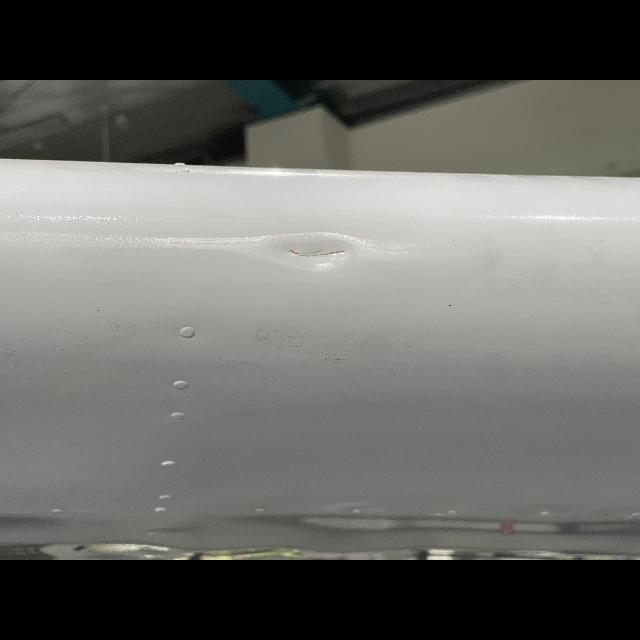dent: (249, 230, 385, 270)
